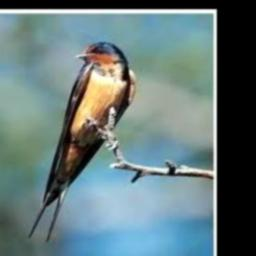Swallow: (28, 41, 136, 242)
